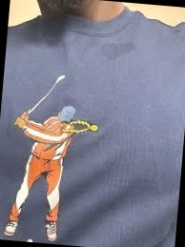oil: (101, 38, 135, 65)
